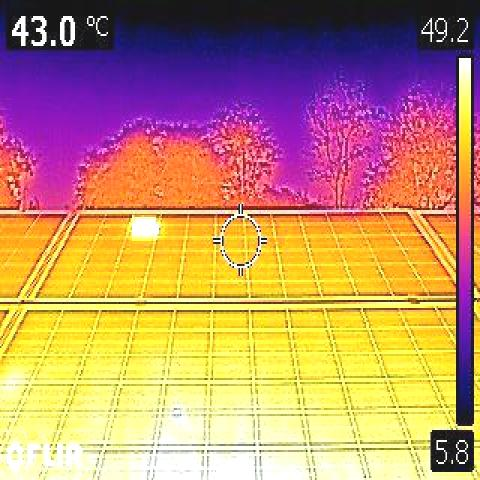fault: (132, 215, 156, 241)
